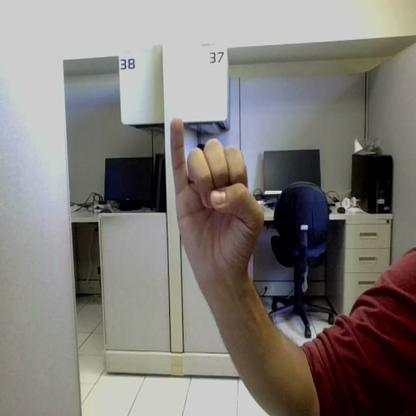I: (171, 117, 264, 277)
